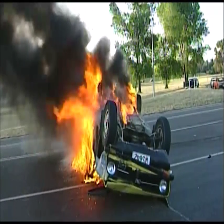fire_h: (49, 51, 104, 175), (120, 82, 140, 124)
fire_l: (105, 81, 118, 105), (84, 171, 101, 185)
